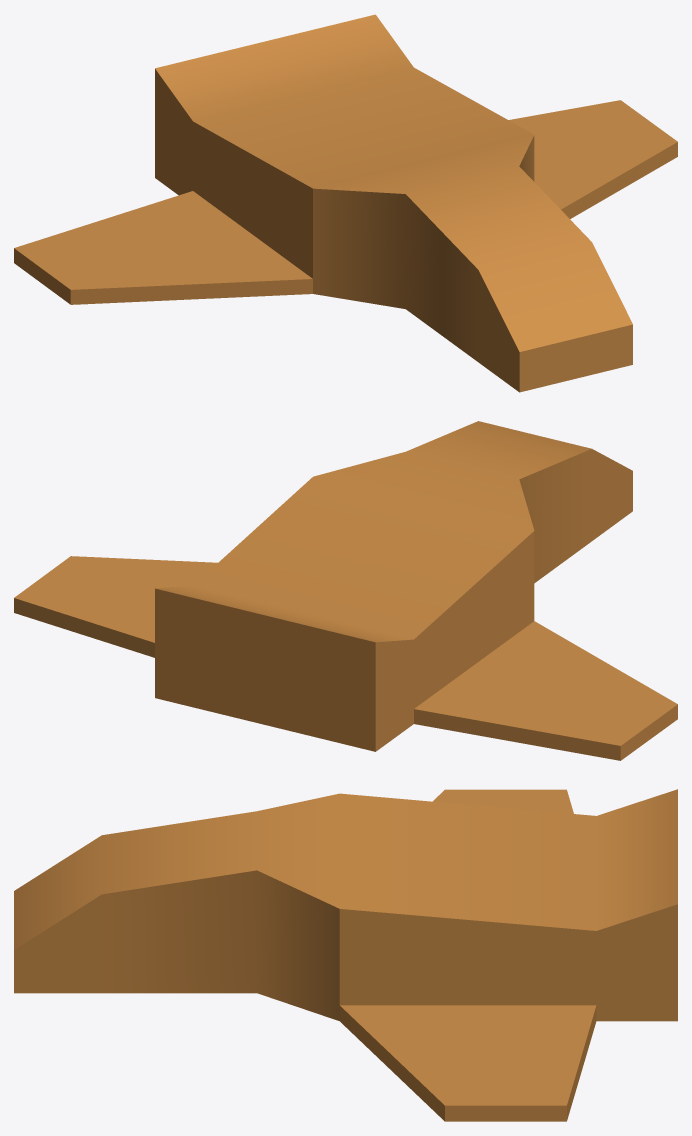
Rendered from OriginalShip_PRX.fbx.
3 renders of one model, top to bottom at view 1: azimuth 30°, elevation 25°; view 2: azimuth 150°, elevation 25°; view 3: azimuth 270°, elevation 25°, orthographic. The views are drawn at different scales.
Parts seen in each view (by area): view 1: OriginalShip_PRX; view 2: OriginalShip_PRX; view 3: OriginalShip_PRX.
Boxes of the visible parts, x1,y1,x2,y2 form: OriginalShip_PRX: [14, 14, 677, 392]; OriginalShip_PRX: [14, 421, 677, 760]; OriginalShip_PRX: [14, 789, 677, 1121].
Size of the model in its own units: 8.79 by 1.59 by 7.8.
